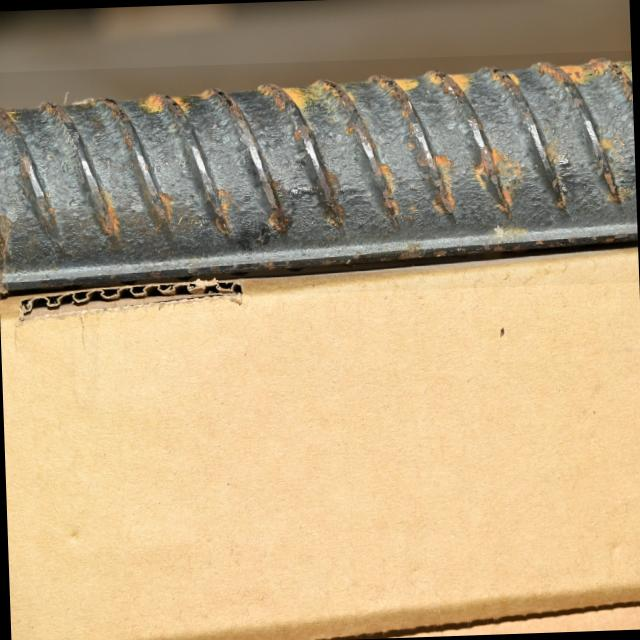ribbed bar: (0, 50, 639, 304)
